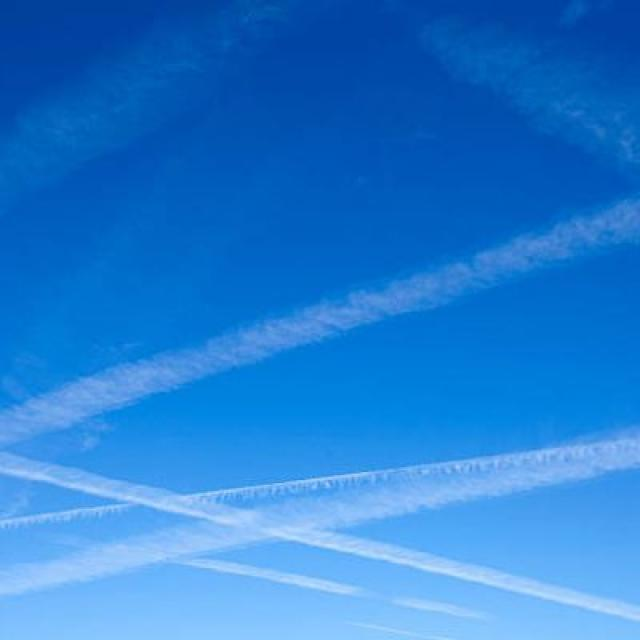Ct: (1, 55, 640, 600)
